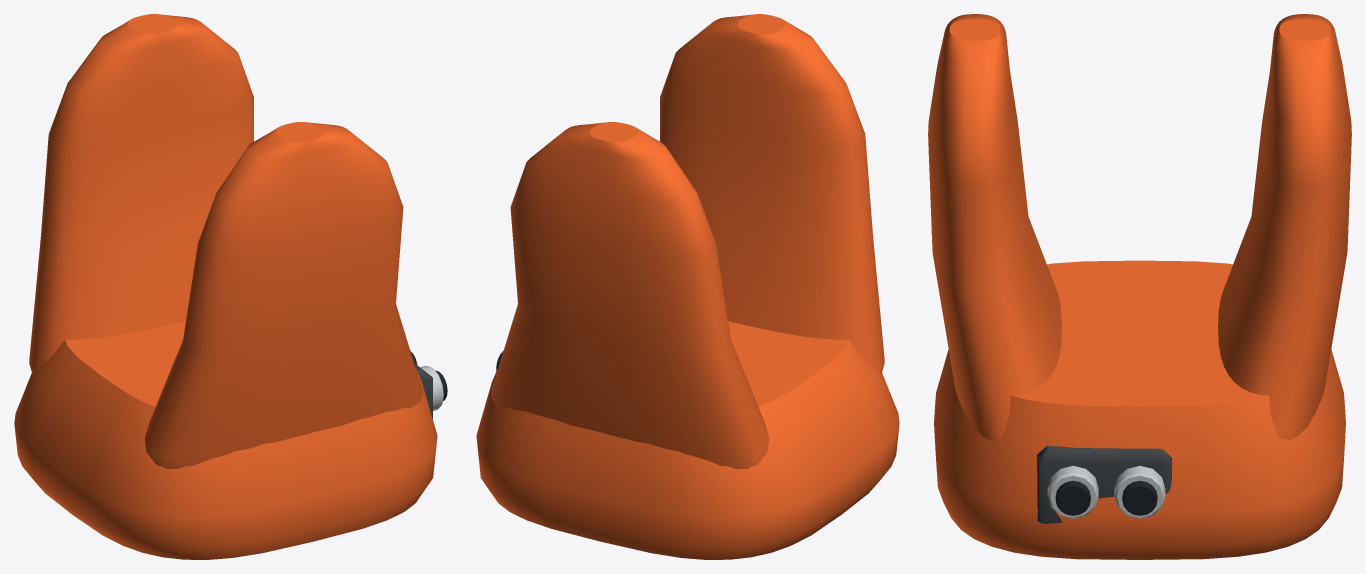
The picture shows the model from 3 angles, left to right: view 1: azimuth 30°, elevation 25°; view 2: azimuth 150°, elevation 25°; view 3: azimuth 270°, elevation 25°; orthographic projection. The views are drawn at different scales.
Parts seen in each view (by area): view 1: J1; view 2: J1; view 3: J1.
Boxes of the visible parts, x1,y1,x2,y2 form: J1: [14, 14, 447, 559]; J1: [476, 14, 899, 559]; J1: [928, 14, 1351, 559].
Size of the model in its own units: 0.2315 by 0.251 by 0.216.
